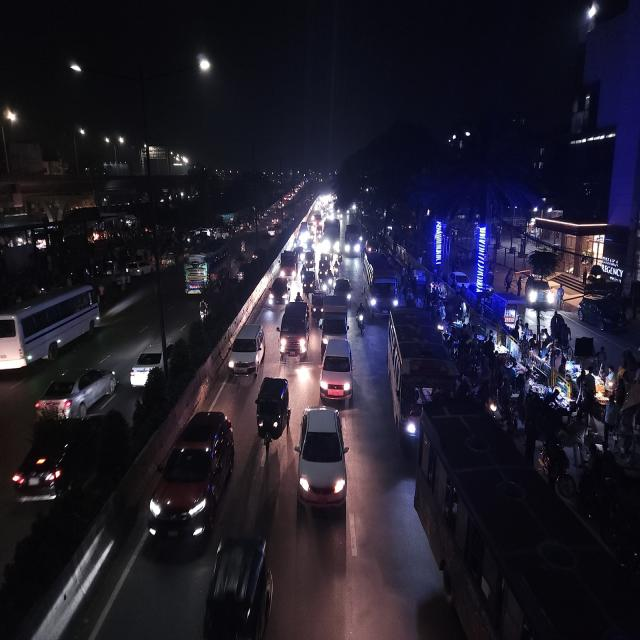bus: (416, 400, 636, 639), (385, 308, 457, 460), (0, 279, 102, 372), (183, 240, 231, 297), (360, 249, 398, 316), (343, 221, 361, 261)
car: (144, 406, 236, 554), (9, 406, 125, 514), (199, 528, 276, 640), (295, 403, 351, 518), (34, 363, 120, 420), (318, 334, 354, 404), (226, 322, 266, 382), (277, 298, 311, 361), (127, 346, 168, 390), (524, 276, 556, 310), (266, 275, 290, 307), (333, 275, 353, 305), (450, 269, 470, 293)
cng: (254, 372, 292, 454), (301, 264, 316, 296), (318, 253, 332, 279), (304, 249, 316, 268)
motorcycle: (355, 300, 367, 336), (197, 296, 210, 325), (333, 254, 343, 277)
truck: (319, 294, 351, 354), (279, 247, 299, 281)
